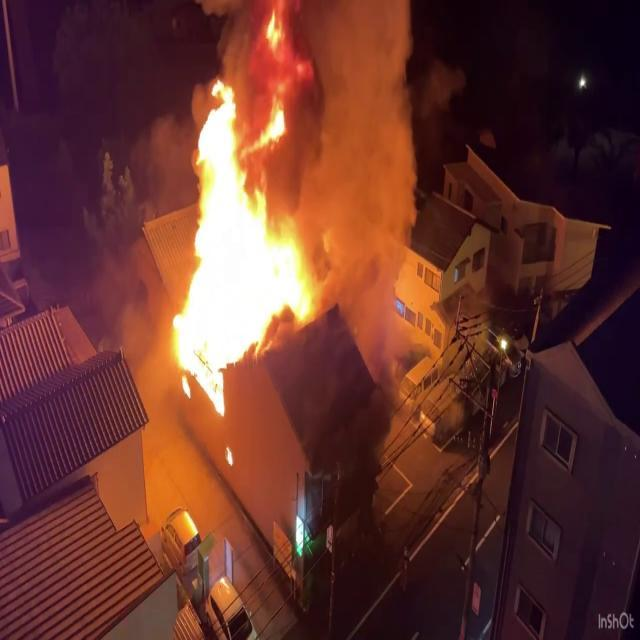Fire: (162, 38, 324, 406)
Smoke: (290, 0, 436, 307)
